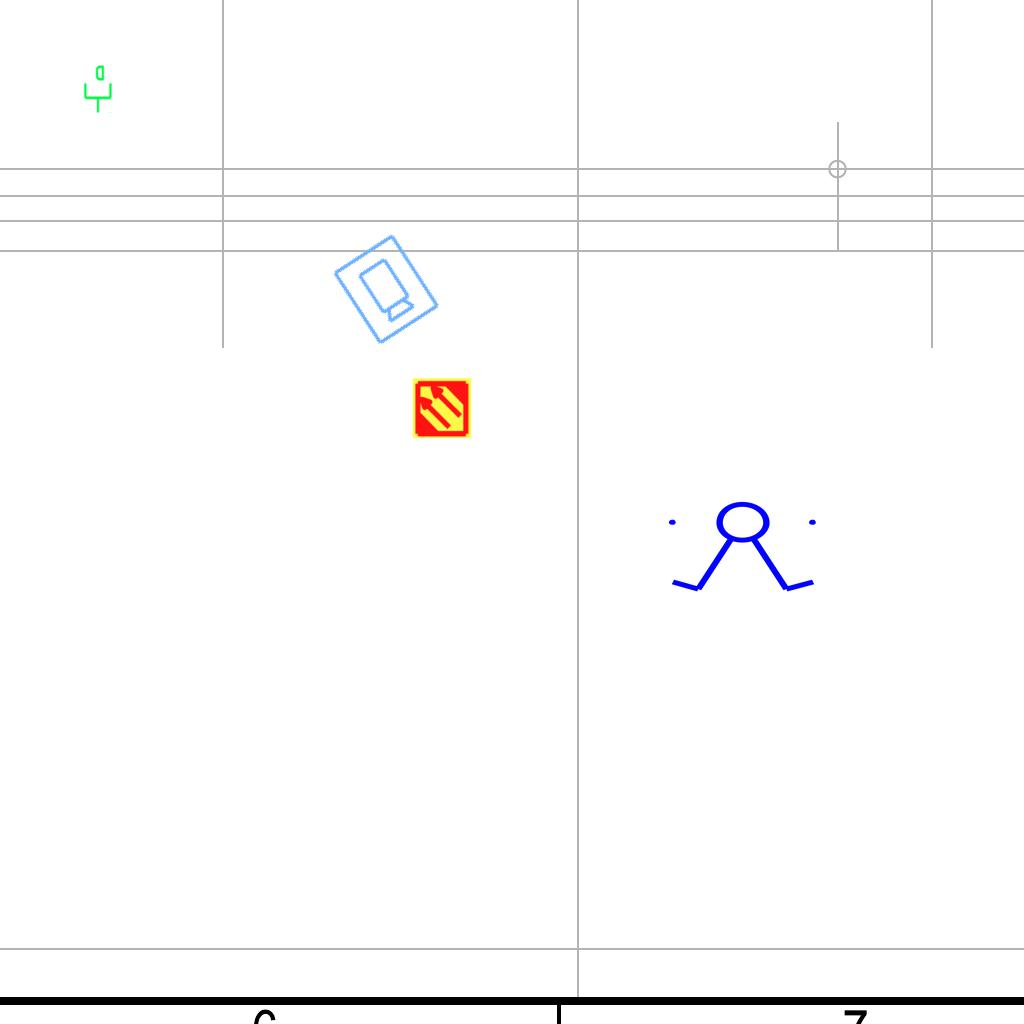ASR_Ansaugrauchmelder: (411, 377, 473, 439)
Datenanschluss_einfach: (80, 64, 114, 114)
KFO_Kamera_mit_Festobjektiv: (328, 230, 443, 349)
Serienschalter: (660, 500, 828, 596)
